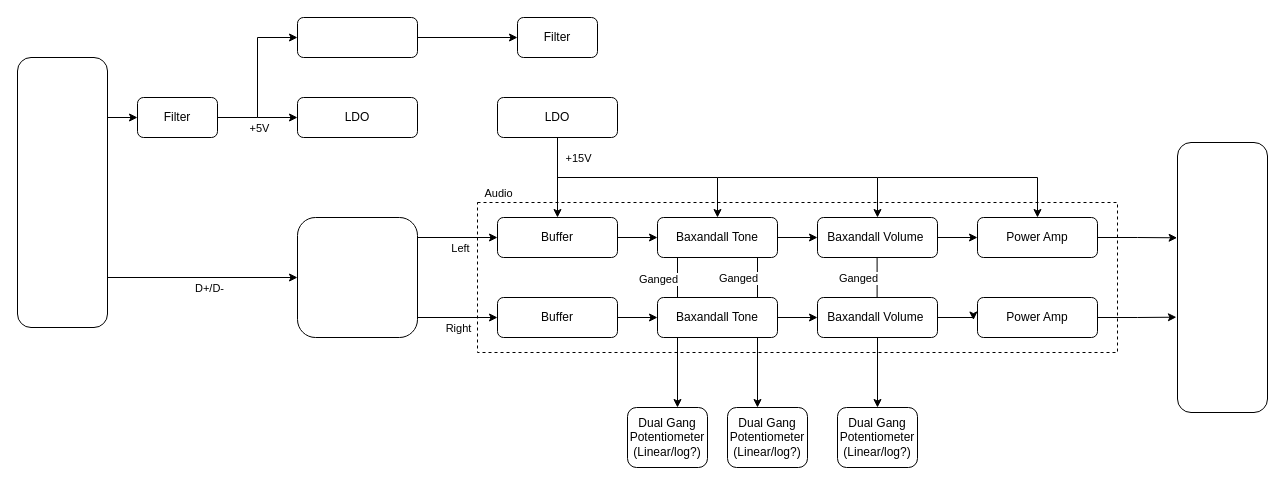
Some shapes in this 1285 by 485 pixel diagram are drawn without their labels. The centre of each missing label's shape, as x and y in pixels:
Boost Converter: [357,37]
PCM2900 USB CODEC: [357,277]
Sterio Headphone Jack (1/4"): [1222,277]
USB-C Connector: [62,192]
